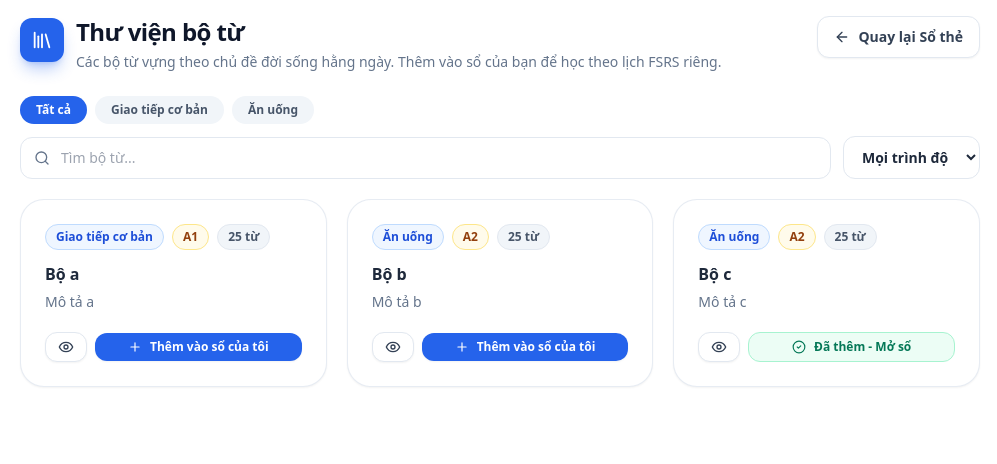
Scenario: CatalogView › shows clone errors and does not navigate
Expected: the heading "Bộ a" is shown, top-left (45, 263), bottom-right (80, 285)
Click the button "Thêm vào sổ của tôi" below "A1".
click(198, 347)  # box top-left (95, 333), bottom-right (302, 361)
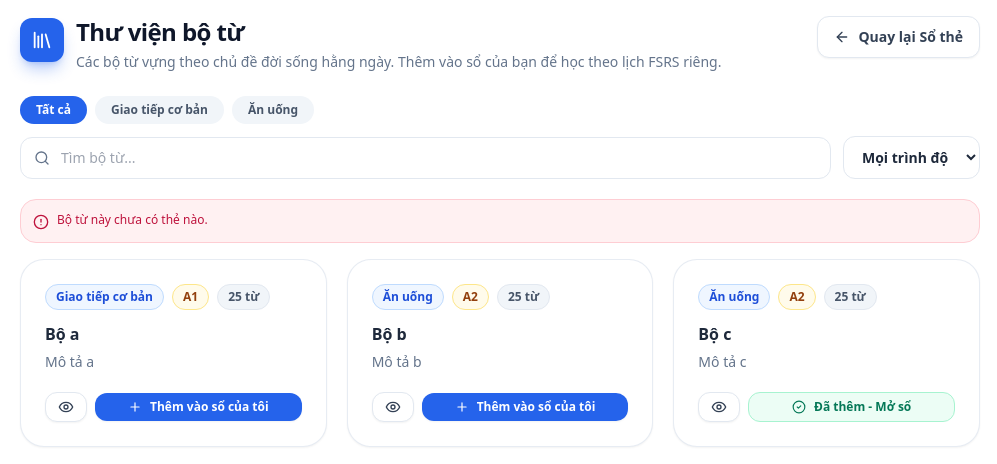
Now the message shows "chưa có thẻ nào", box top-left (57, 211), bottom-right (208, 228)
